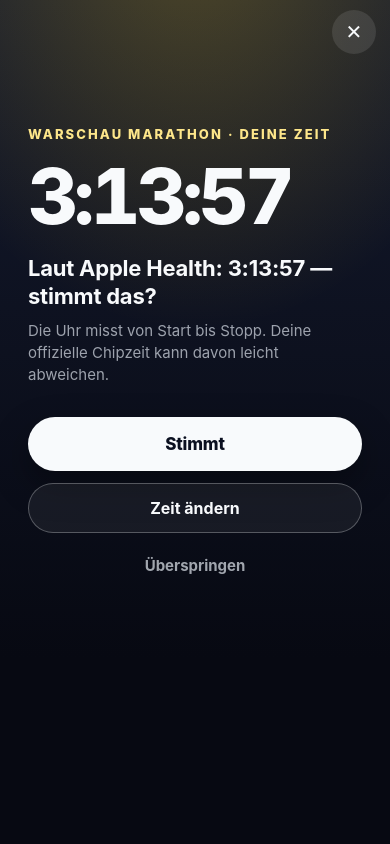
Scenario: PrepRecapExperience › Überspringen öffnet die Story, ohne zu bestätigen
Click the button "Überspringen": (195,565) 129,543 -> 261,587
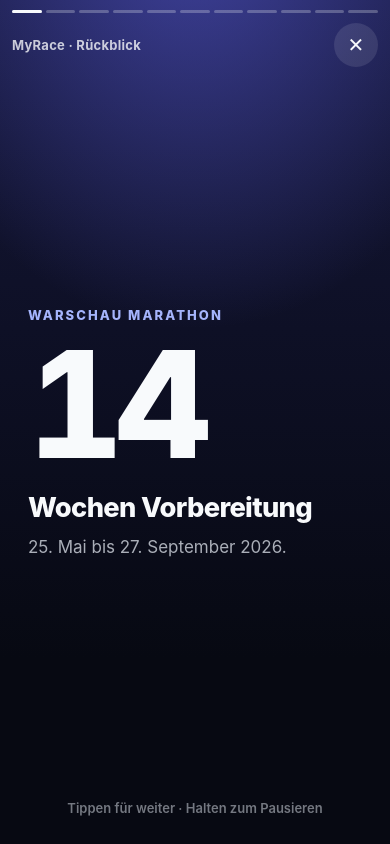
Result: the dialog with test id "prep-recap-story" is shown
